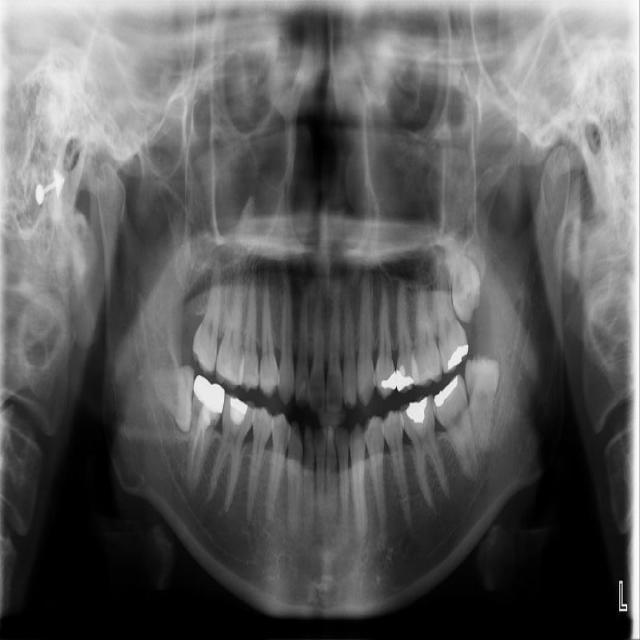52: (422, 371, 482, 430), (210, 388, 264, 442), (187, 376, 227, 433), (398, 394, 440, 444), (437, 322, 470, 373), (372, 356, 397, 399), (395, 351, 419, 391)
73: (178, 408, 218, 492), (616, 588, 620, 596)
BioHorizons Implant: (430, 257, 470, 373)
BioLife Implant: (442, 232, 488, 324)
Biomet 3i Implant: (455, 353, 502, 451)
Blue Sky Bio Implant: (427, 373, 481, 486)
Caries: (188, 258, 231, 375)
Implant: (183, 376, 226, 492)
Keystone Dental Implant: (149, 367, 196, 430)
